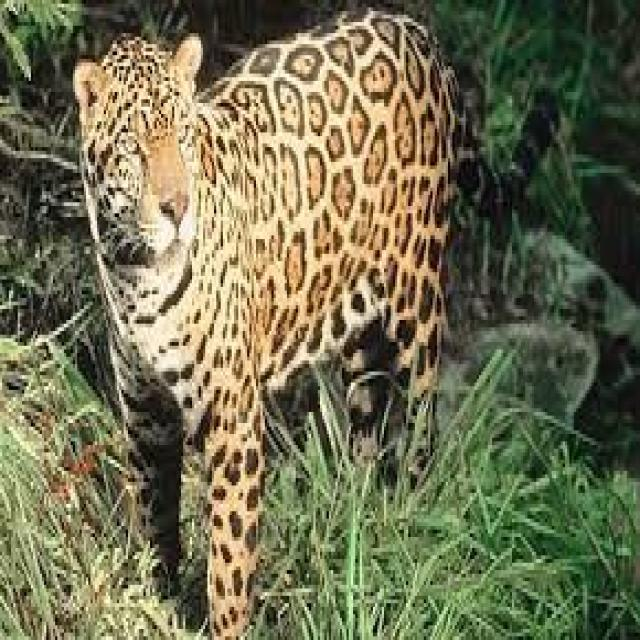Jaguar: (68, 15, 457, 625)
